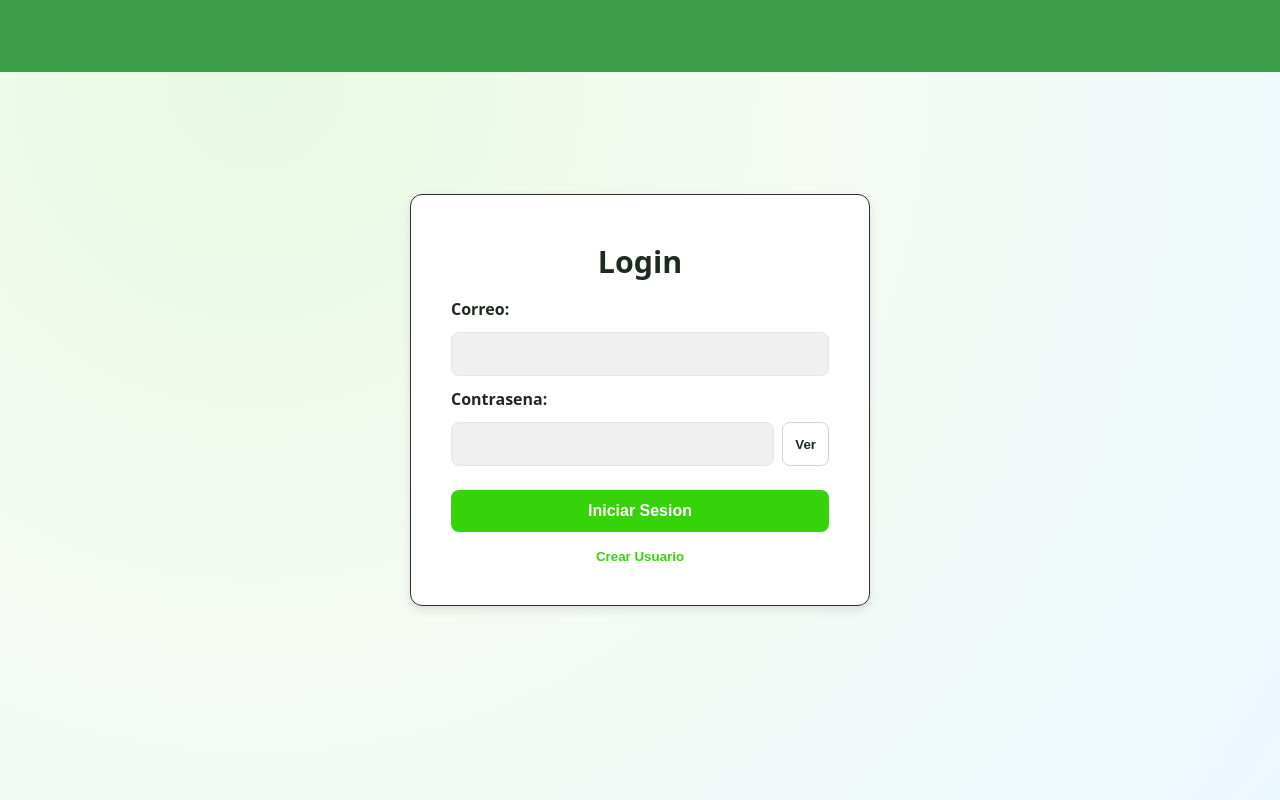
Scenario: Login navigation › navigates from login to register using bottom text
Click the button with aria-label "Ir a crear usuario": coordinates (640, 556) top-left (590, 548), bottom-right (690, 565)
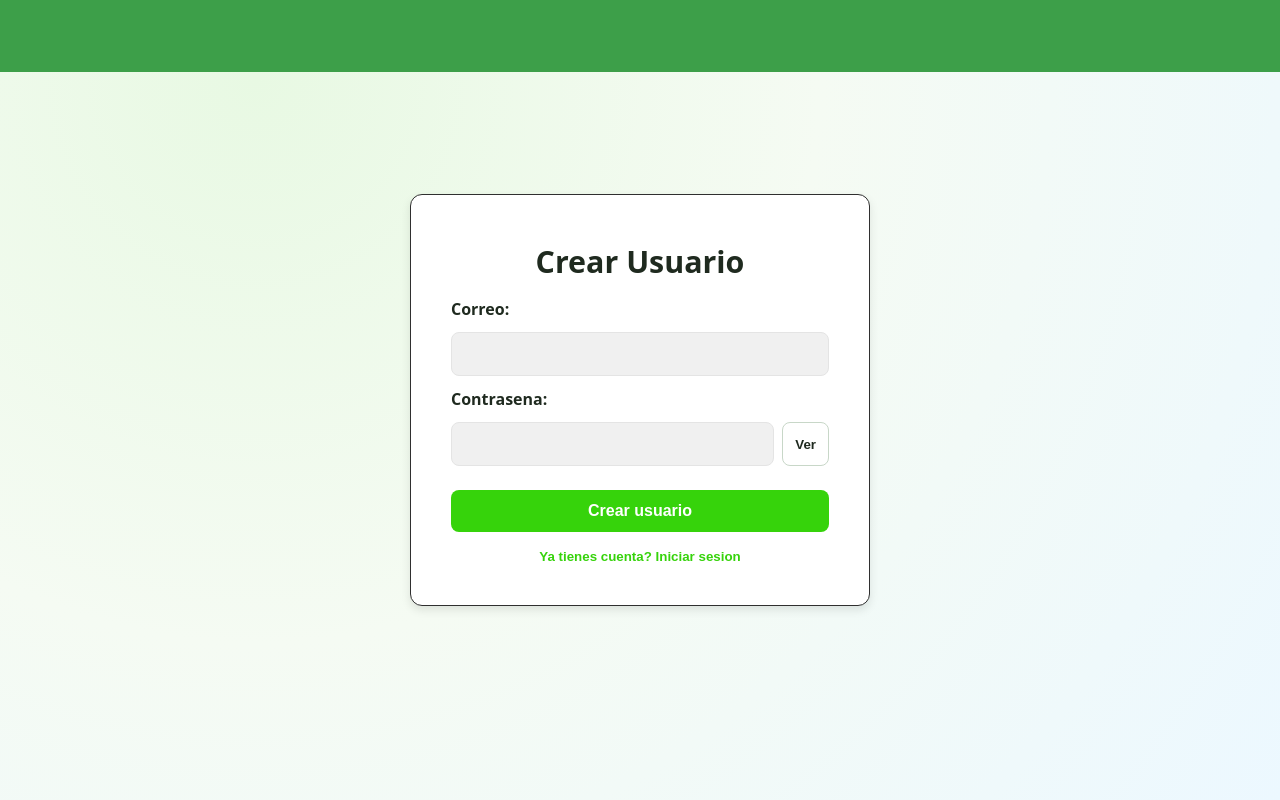
Expected: the heading "Crear Usuario" is shown, top-left (536, 241), bottom-right (744, 282)
